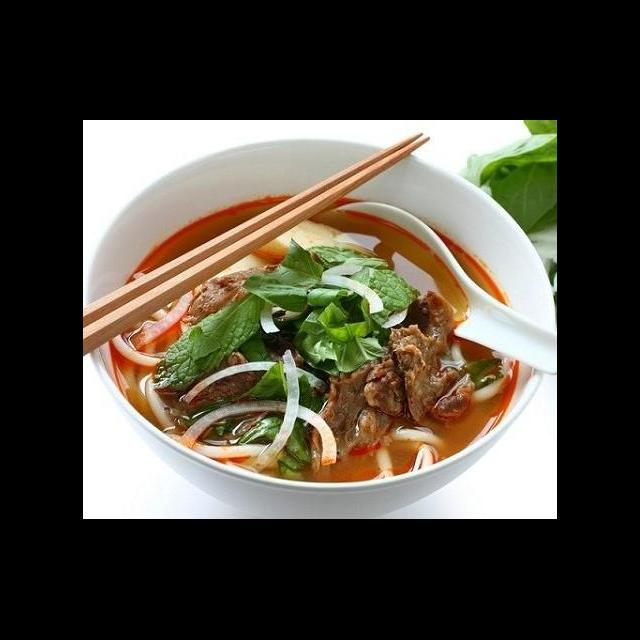bun: (140, 372, 283, 464), (104, 268, 188, 370), (369, 420, 451, 484), (445, 332, 514, 408)
bun bo: (117, 176, 526, 483)
thit bo: (382, 286, 477, 432), (307, 354, 405, 486), (153, 346, 283, 444), (182, 260, 312, 330), (361, 352, 423, 422)
